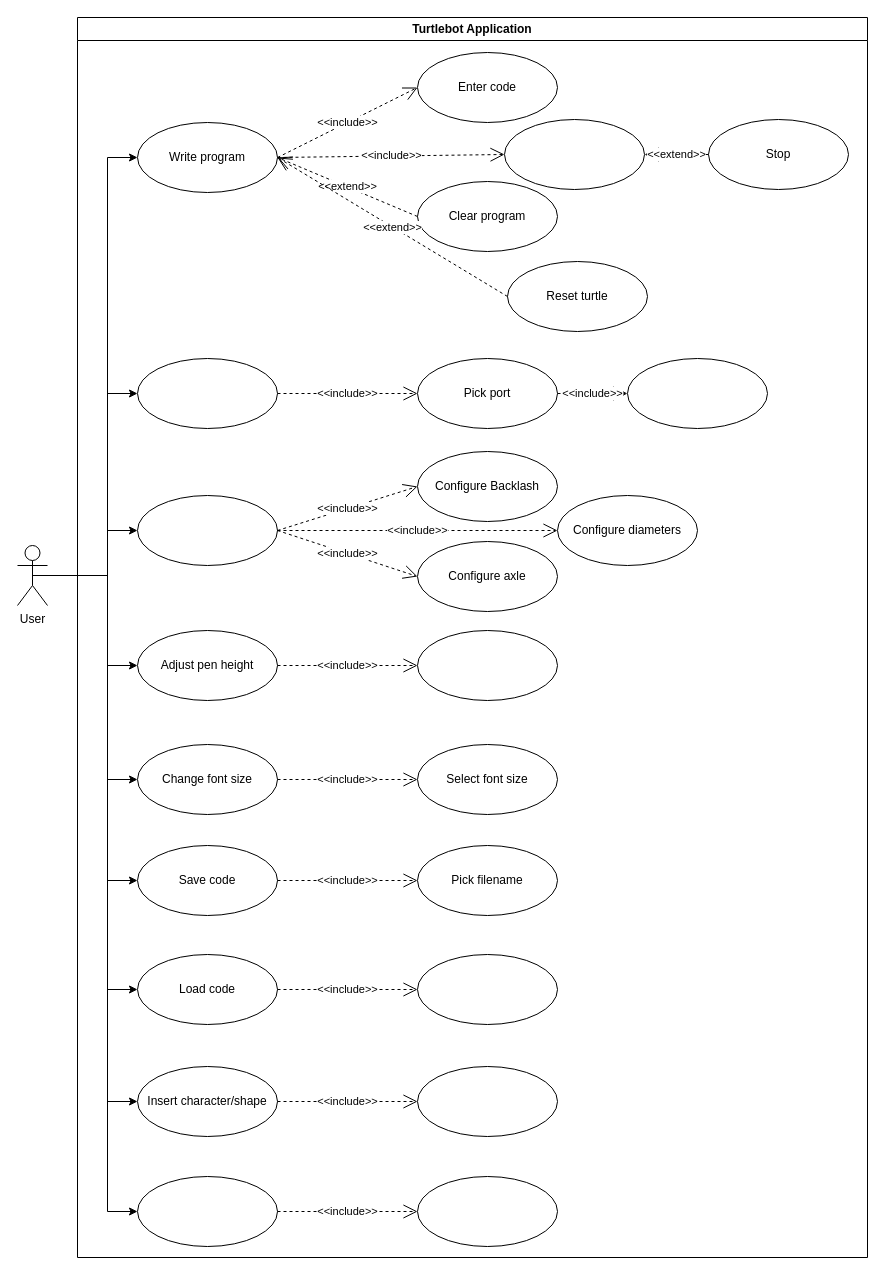
The diagram is 885 pixels wide and 1275 high, and some of its shapes have lost their labels. Each missing label, with the centre of its shape:
"Connect turtlebot" belongs at point (207, 393).
"Display connected" belongs at point (697, 393).
"Open About window" belongs at point (487, 1211).
"Pick file" belongs at point (487, 989).
"Pick shape/character" belongs at point (487, 1101).
"Read About page" belongs at point (207, 1211).
"Run code" belongs at point (574, 154).
"Select height" belongs at point (487, 665).
"Setup wizard" belongs at point (207, 530).
